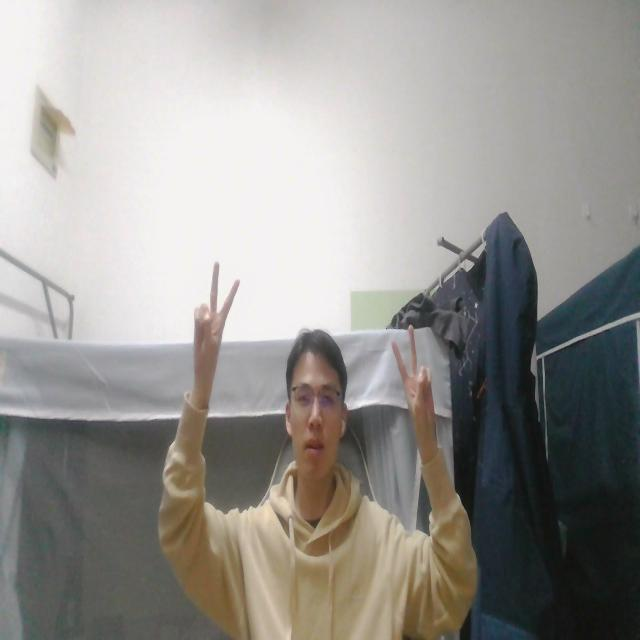yes: (187, 253, 242, 403), (390, 318, 443, 454)
